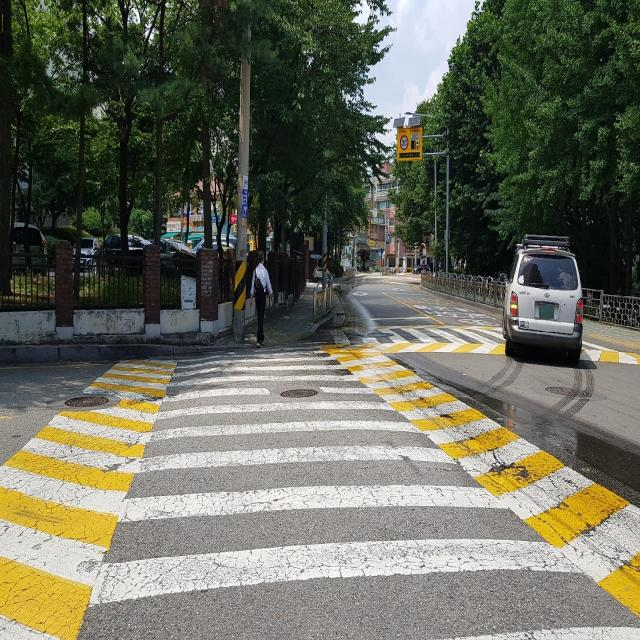횡단보도: (88, 348, 640, 640)
